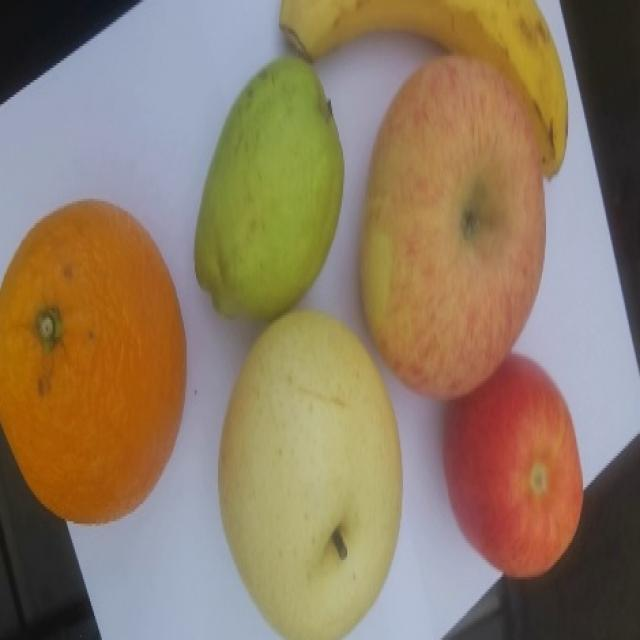Apple: (358, 54, 550, 400), (440, 354, 584, 580)
Banana: (278, 0, 568, 179)
Orange: (0, 198, 187, 525)
